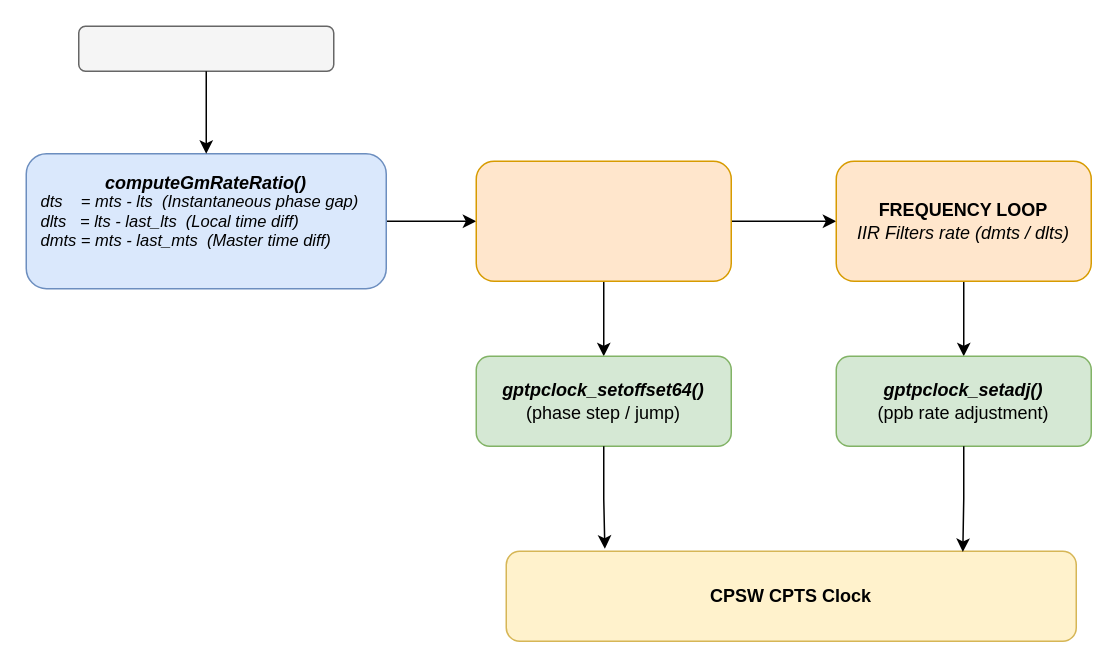
The diagram is 1118 pixels wide and 668 high, and some of its shapes have lost their labels. Here are the shapes that lost their labels. From the top down, the box of each, then its label:
(77, 25, 334, 71): Sync + Follow_Up received
(475, 160, 731, 281): PHASE LOOP set_phase_offsetGM()
